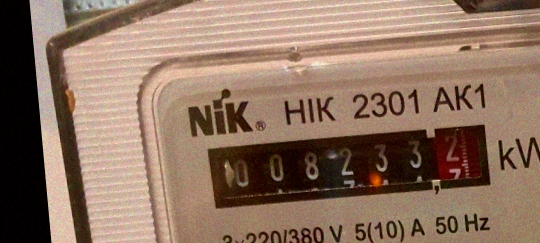0: (229, 155, 252, 189), (265, 151, 286, 184)
2: (334, 144, 356, 178), (441, 131, 461, 164)
3: (405, 136, 425, 169), (370, 141, 390, 173)
8: (300, 148, 320, 181)
screen: (195, 111, 502, 219)
